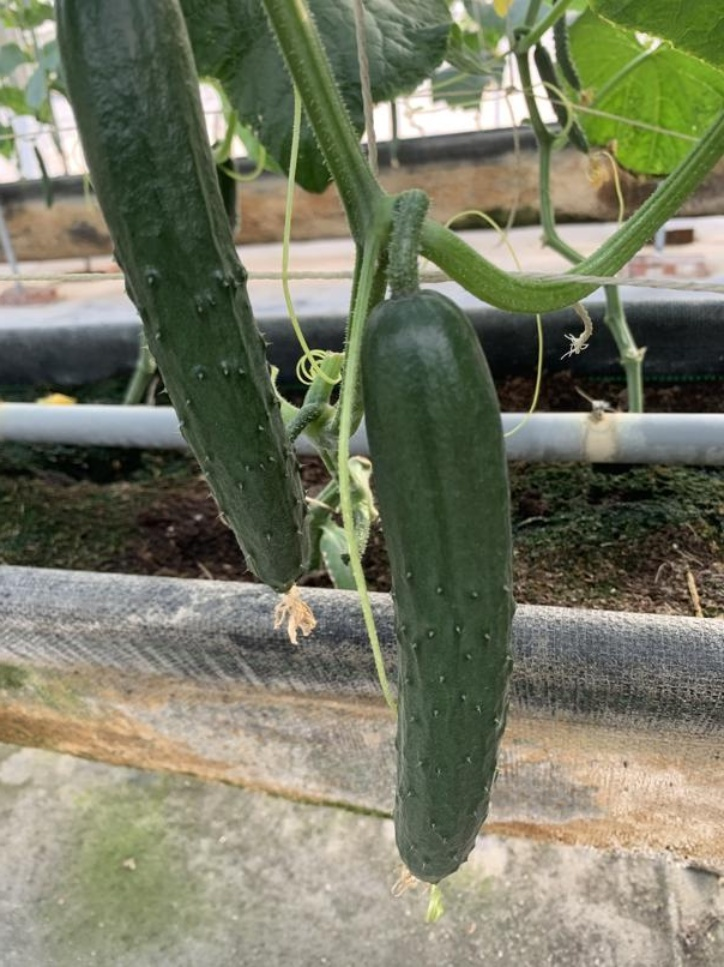mature: (32, 0, 329, 596), (363, 278, 517, 878)
